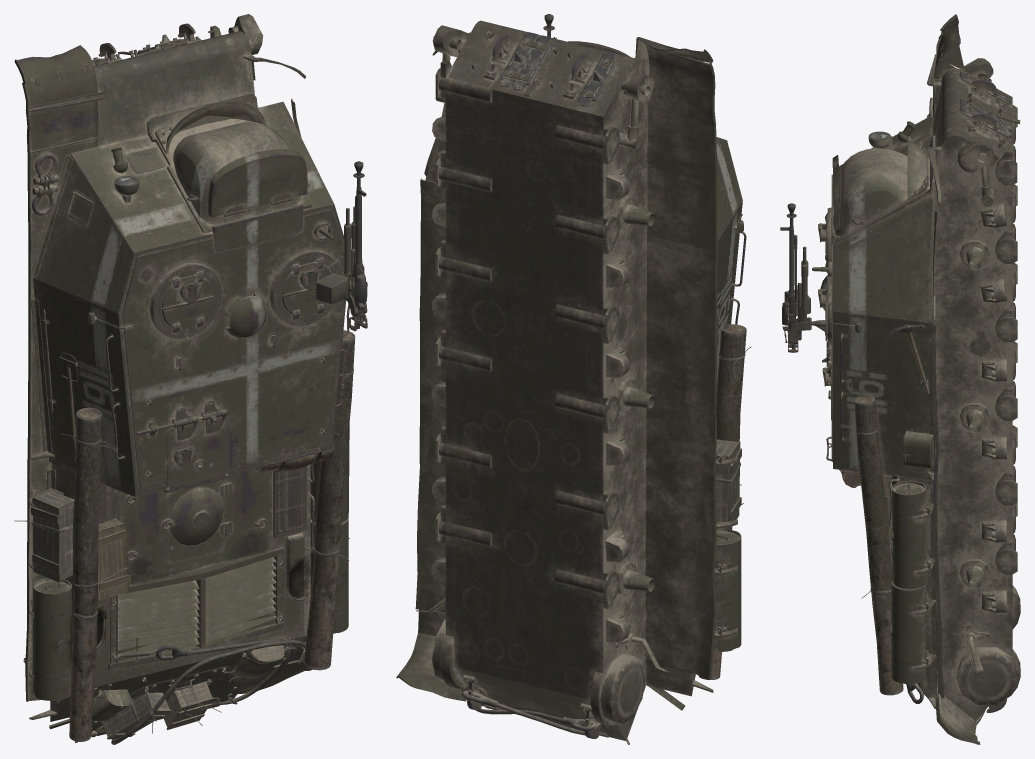
File: Hull.glb
The picture shows the model from 3 angles, left to right: view 1: azimuth 30°, elevation 25°; view 2: azimuth 150°, elevation 25°; view 3: azimuth 270°, elevation 25°; orthographic projection. The views are drawn at different scales.
Visible parts, largest first — view 1: set_0_group_0; view 2: set_0_group_0; view 3: set_0_group_0.
Part boxes in pixels (x1,y1,x2,y2): set_0_group_0: (14, 14, 367, 744); set_0_group_0: (396, 14, 751, 744); set_0_group_0: (780, 14, 1020, 744).
Size of the model in its own units: 3.29 by 6.87 by 2.41.
Materials: 1 (1 with a texture image).
